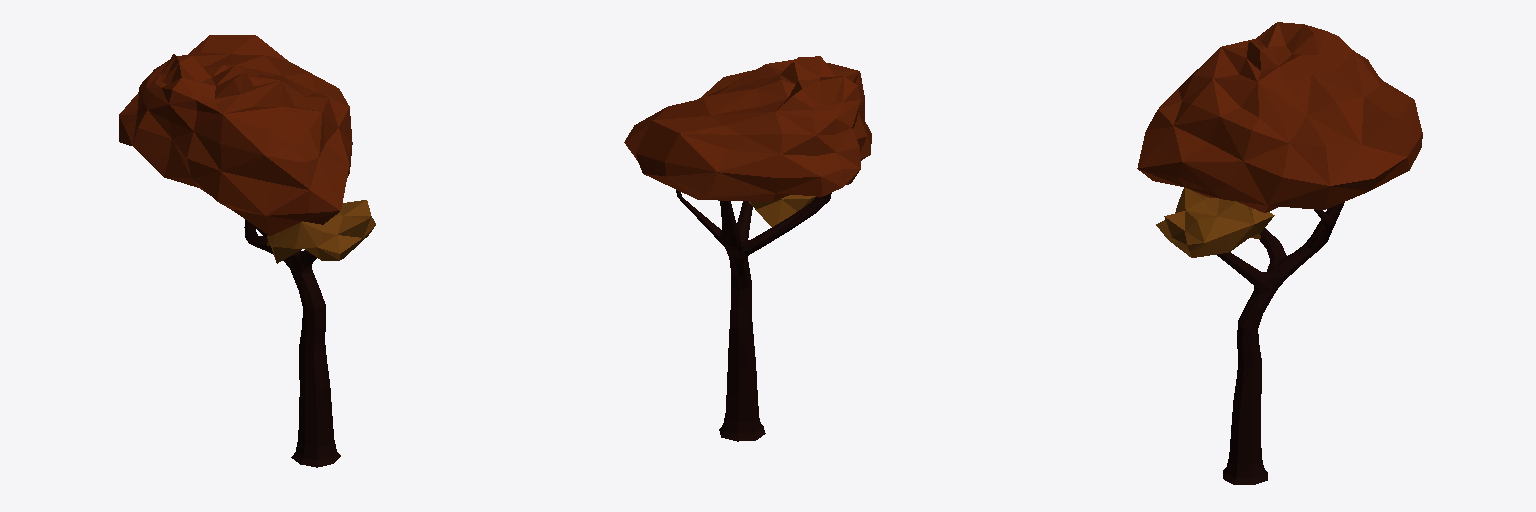
Rendered from CommonTree_Autumn_4.obj.
3 views of the same model, side by side, from view 1: azimuth 30°, elevation 25°; view 2: azimuth 150°, elevation 25°; view 3: azimuth 270°, elevation 25° (orthographic).
Parts seen in each view (by area): view 1: CommonTree_Autumn_4_Cube.098; view 2: CommonTree_Autumn_4_Cube.098; view 3: CommonTree_Autumn_4_Cube.098.
Boxes of the visible parts, x1,y1,x2,y2 form: CommonTree_Autumn_4_Cube.098: [119, 35, 375, 467]; CommonTree_Autumn_4_Cube.098: [624, 56, 871, 441]; CommonTree_Autumn_4_Cube.098: [1137, 22, 1422, 484].
Size of the model in its own units: 1.58 by 2.78 by 1.8.